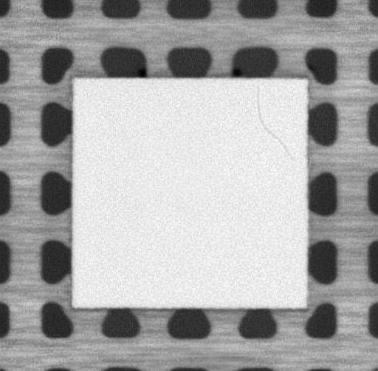DIE_CRACK: (254, 85, 296, 161)
